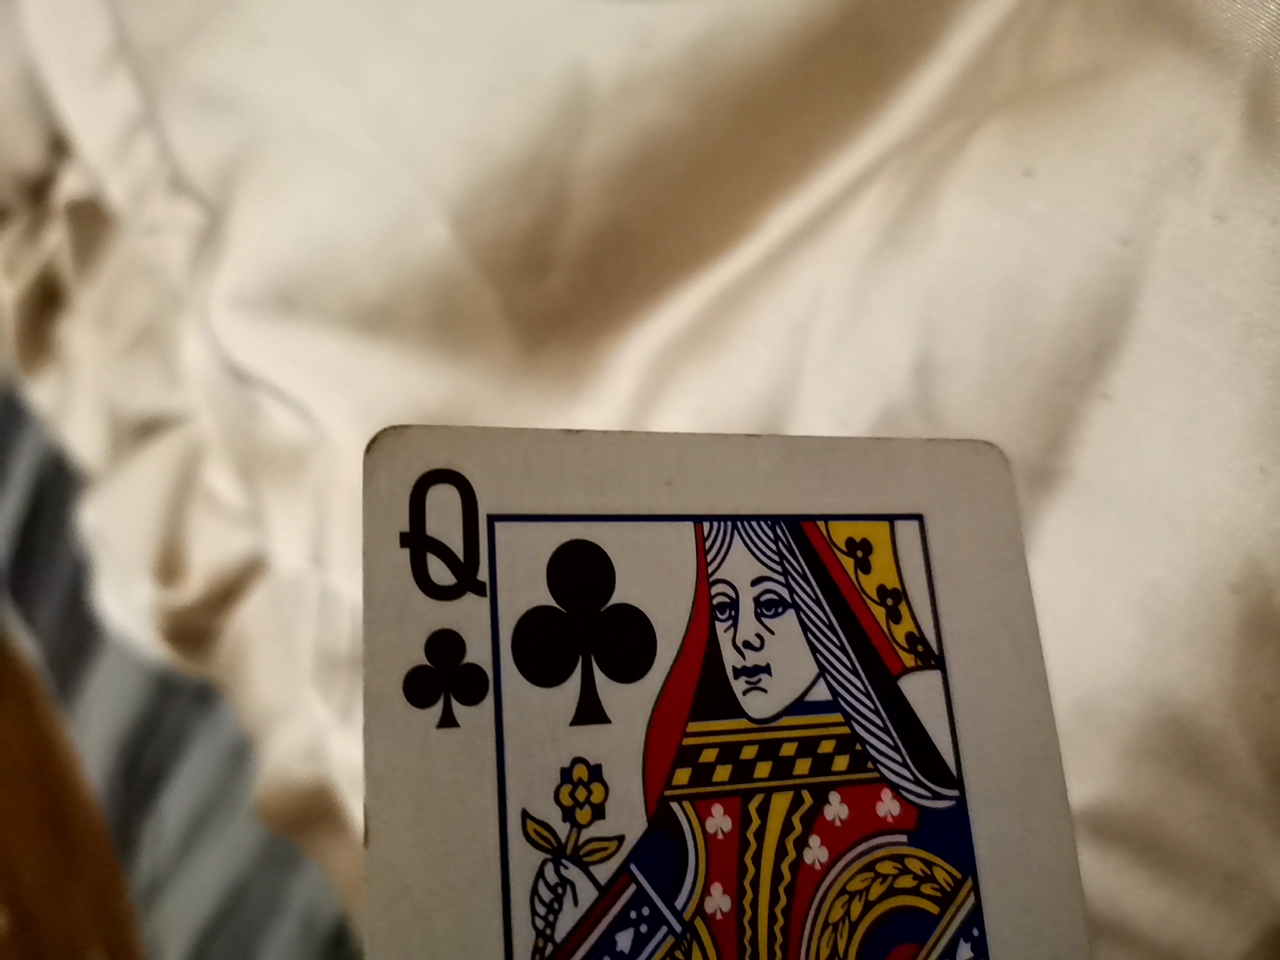mh q: (368, 419, 1119, 958)
